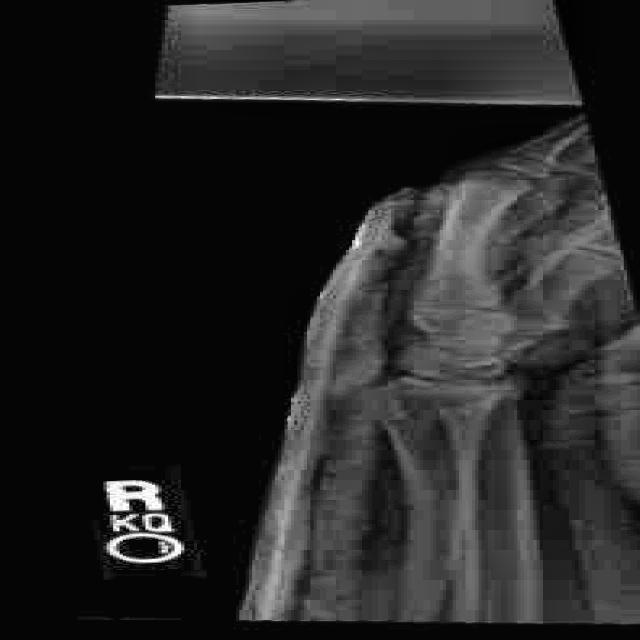wrist positive: (337, 377, 557, 432), (384, 297, 528, 322)
